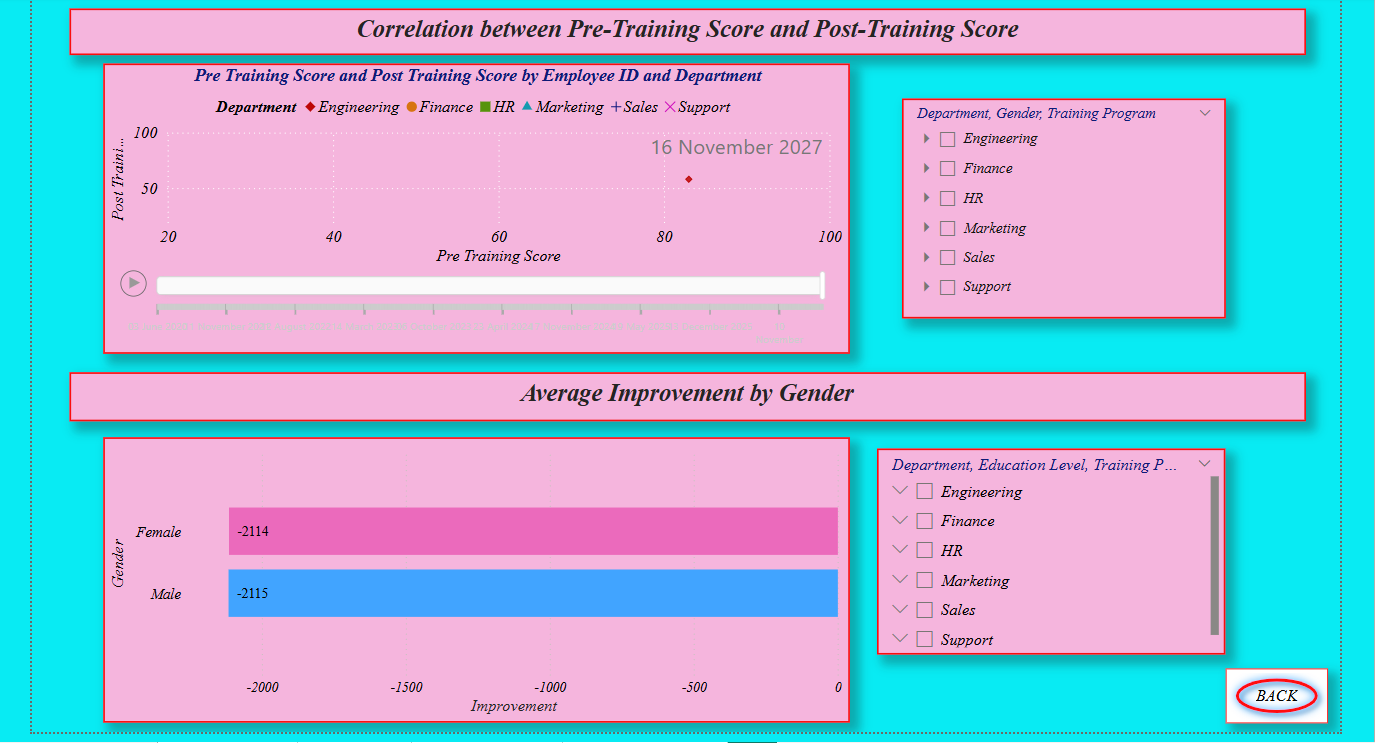

What the dashboard file says about the page in this screenshot:
{"tool":"powerbi","page":{"name":"Additional Task 1","canvas":[1280,720],"ordinal":3},"visuals":[{"type":"textbox","box":[36.7,12.2,1209.4,45.2],"z":1},{"type":"scatterChart","title":"Pre Training Score and Post Training Score by Employee ID and Department","fields":{"X":["Sum(Table1.Pre Training Score)"],"Y":["Sum(Table1.Post Training Score)"],"Series":["Table1.Department"],"Category":["Table1.Employee ID"],"Play":["Table1.Training Date"]},"box":[69.7,66,730,283.7],"z":2},{"type":"slicer","fields":{"Values":["Table1.Department","Table1.Gender","Table1.Training Program"]},"box":[851.1,100.3,316.7,215.2],"z":3},{"type":"textbox","box":[36.7,368.1,1209.4,47.7],"z":4},{"type":"clusteredBarChart","title":"Improvement by Gender","fields":{"Y":["Sum(Table1.IMPROVEMENT)"],"Category":["Table1.Gender"]},"box":[69.7,431.7,730,278.8],"z":5},{"type":"slicer","fields":{"Values":["Table1.Department","Table1.Education Level","Table1.Training Program"]},"box":[826.6,442.7,341.2,201.8],"z":6},{"type":"actionButton","box":[1167.8,657.9,100.3,53.8],"z":7}]}

Visuals, with their boxes in screenshot pixels (x1, y1, x2, y2):
textbox: region(69, 9, 1297, 55)
"Pre Training Score and Post Training Score by Employee ID and Department" scatterChart: region(103, 63, 844, 351)
slicer - Table1.Department x Table1.Gender: region(896, 98, 1218, 317)
textbox: region(69, 370, 1297, 419)
"Improvement by Gender" clusteredBarChart: region(103, 435, 844, 718)
slicer - Table1.Department x Table1.Education Level: region(871, 446, 1218, 651)
actionButton: region(1218, 664, 1320, 719)
